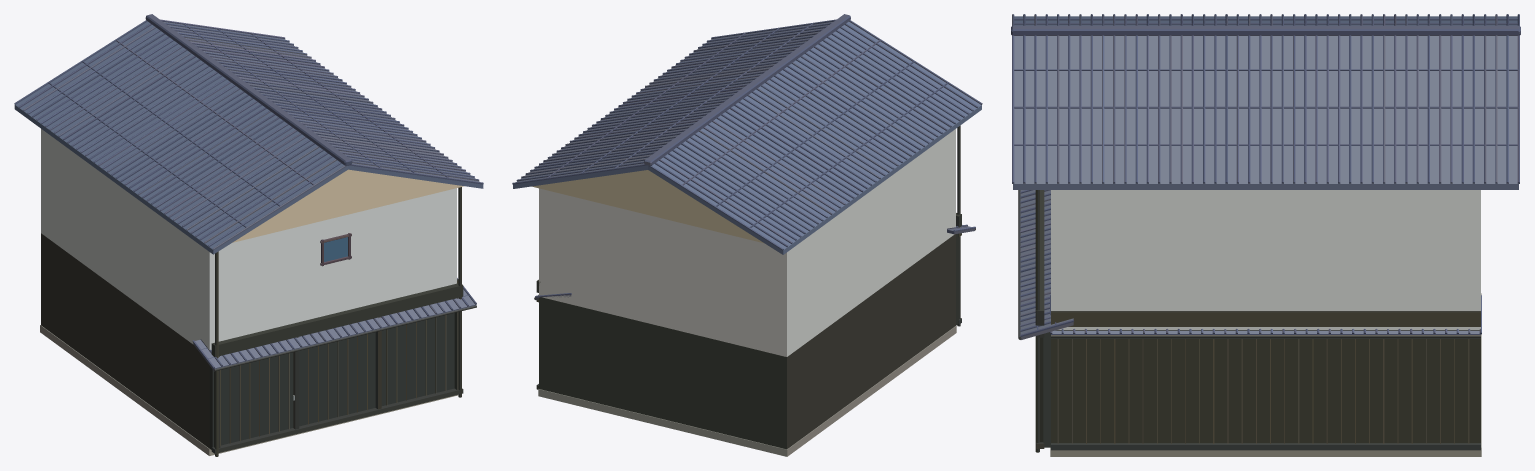
Rendered from ART_WhiteStorehouse.glb.
3 views of the same model, side by side, from view 1: azimuth 30°, elevation 25°; view 2: azimuth 150°, elevation 25°; view 3: azimuth 270°, elevation 25° (orthographic). The views are drawn at different scales.
Parts seen in each view (by area): view 1: ART_WhiteStorehouse; view 2: ART_WhiteStorehouse; view 3: ART_WhiteStorehouse.
Part boxes in pixels (x1,y1,x2,y2): ART_WhiteStorehouse: (14,14,483,456); ART_WhiteStorehouse: (512,14,982,456); ART_WhiteStorehouse: (1011,14,1520,456).
Size of the model in its own units: 7.87 by 7.68 by 10.08.
